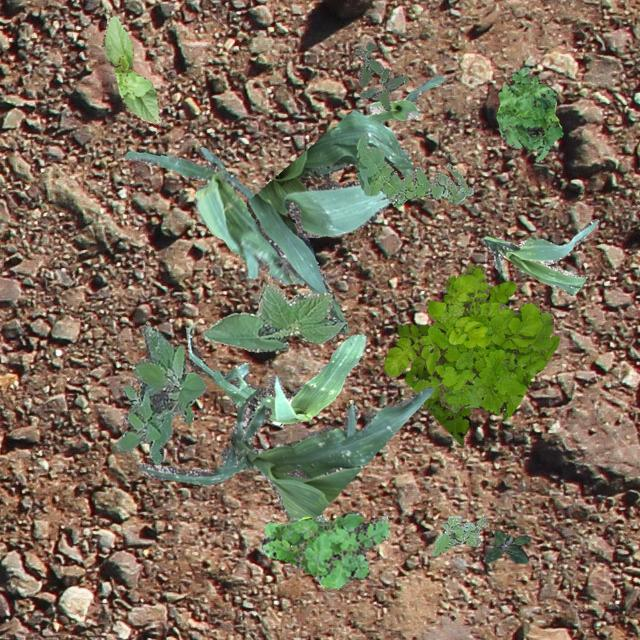crop: (138, 386, 434, 522), (246, 109, 414, 332), (124, 146, 304, 284), (184, 322, 366, 424), (202, 282, 346, 351), (482, 218, 598, 294), (101, 14, 160, 122), (366, 75, 444, 122)
weed: (382, 264, 558, 418), (394, 264, 516, 444), (116, 324, 206, 464), (260, 509, 388, 588), (354, 132, 472, 206), (496, 66, 562, 160), (353, 42, 408, 110), (431, 514, 486, 554), (482, 530, 528, 562), (316, 514, 326, 522)
